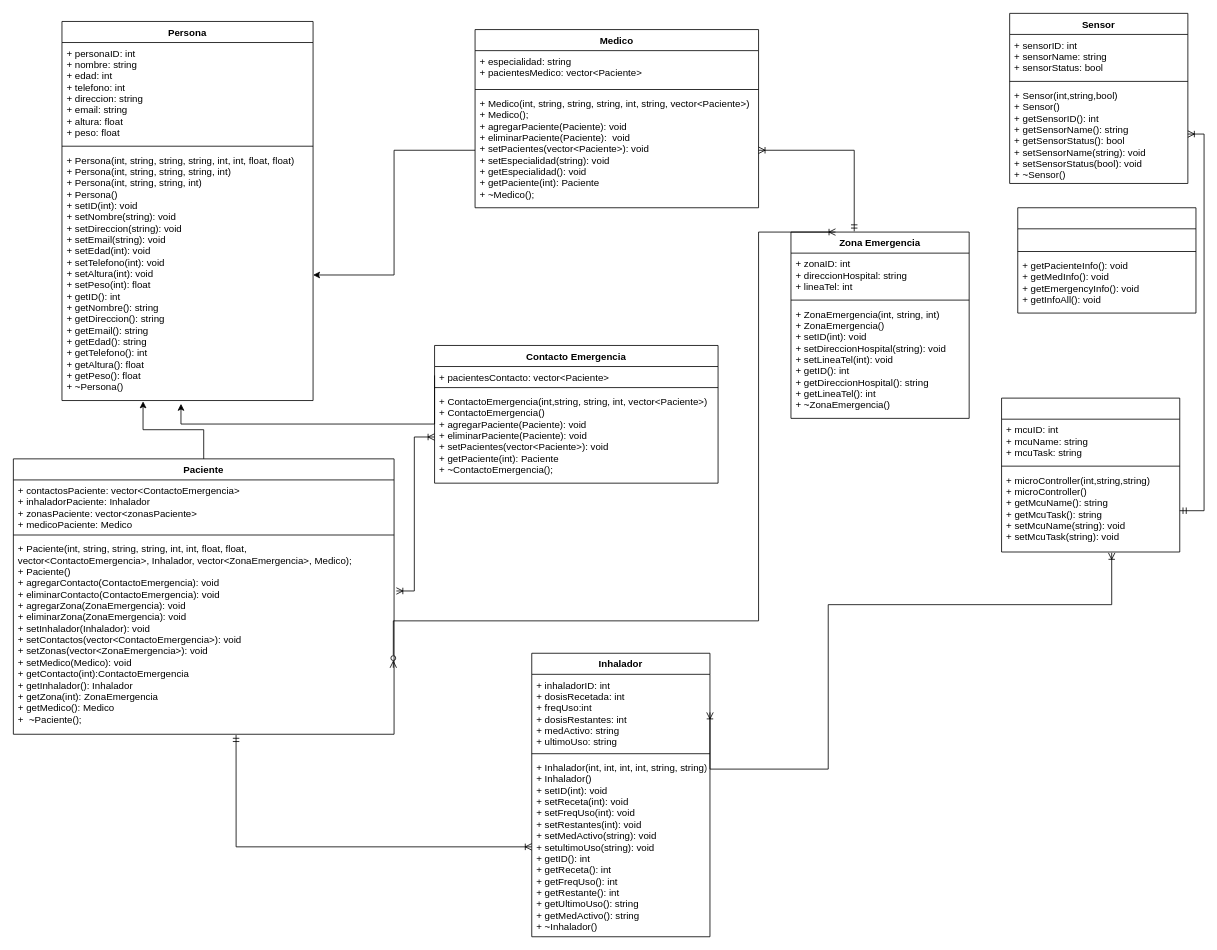
Image size: 1217x950. Some labels were removed from this diagram. The box of each missing label's shape, as (x1, y1, x2, y2) in pixels:
Interfaz: (1017, 207, 1196, 313)
Microcontrolador: (1001, 397, 1180, 552)
